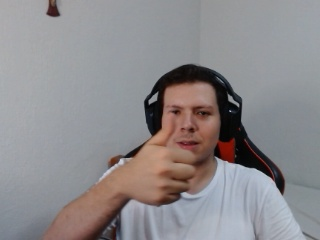Adelante: (110, 110, 202, 212)
